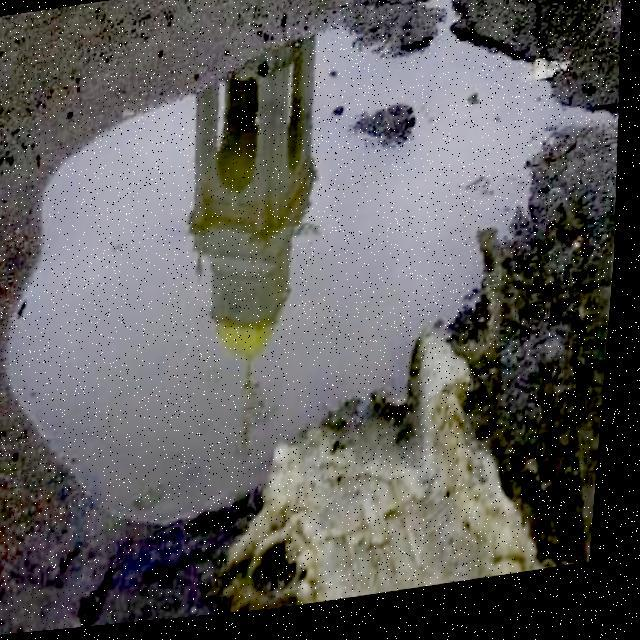pothole: (0, 0, 639, 575)
